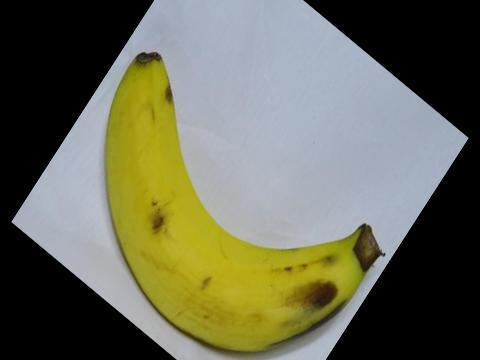freshripe: (83, 39, 388, 353)
